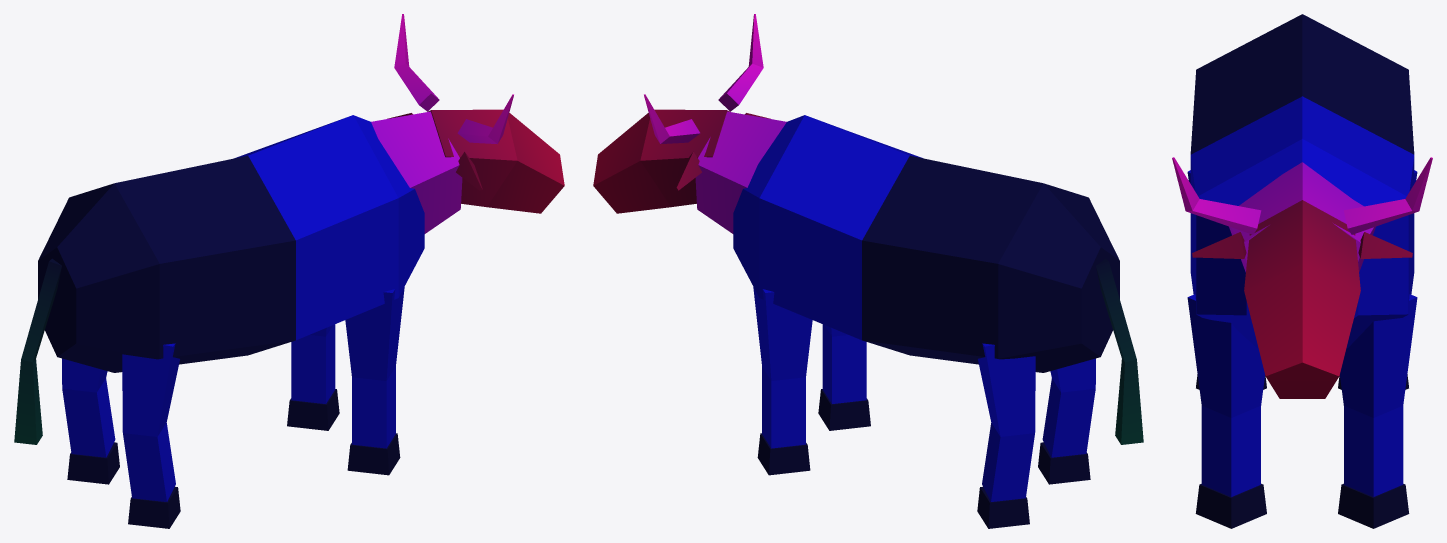
The model's file is ns-cattle-a.glb.
3 views of the same model, side by side, from view 1: azimuth 30°, elevation 25°; view 2: azimuth 150°, elevation 25°; view 3: azimuth 270°, elevation 25° (orthographic). The views are drawn at different scales.
Parts seen in each view (by area): view 1: Sculpted silhouette, Sculpted silhouette.001, Tapered form.009, Tapered form.006, Tapered form.002, Tapered form.008, Tapered form.004, Tapered form.014, Tapered form, Tapered form.005, Tapered form.007, Tapered form.001 (+3 smaller); view 2: Sculpted silhouette, Sculpted silhouette.001, Tapered form.009, Tapered form.004, Tapered form, Tapered form.008, Tapered form.006, Tapered form.014, Tapered form.002, Tapered form.007, Tapered form.005, Tapered form.003 (+3 smaller); view 3: Sculpted silhouette.001, Sculpted silhouette, Tapered form.009, Tapered form, Tapered form.002, Tapered form.008, Tapered form.001, Tapered form.003, Tapered form.010, Tapered form.012, Tapered form.011, Tapered form.013.
Boxes of the visible parts, box(x1,y1,x2,y2) form: Sculpted silhouette: box(38, 155, 295, 372); Sculpted silhouette.001: box(234, 115, 424, 340); Tapered form.009: box(427, 109, 564, 213); Tapered form.006: box(122, 343, 179, 501); Tapered form.002: box(345, 287, 404, 448); Tapered form.008: box(371, 111, 462, 233); Tapered form.004: box(62, 358, 115, 457); Tapered form.014: box(14, 258, 61, 444); Tapered form: box(291, 324, 335, 403); Tapered form.005: box(67, 442, 119, 484); Tapered form.007: box(128, 486, 180, 528); Tapered form.001: box(287, 389, 339, 430); Sculpted silhouette: box(862, 155, 1119, 372); Sculpted silhouette.001: box(733, 115, 922, 340); Tapered form.009: box(593, 109, 730, 213); Tapered form.004: box(978, 343, 1035, 501); Tapered form: box(753, 287, 812, 448); Tapered form.008: box(695, 111, 786, 233); Tapered form.006: box(1042, 358, 1095, 457); Tapered form.014: box(1096, 258, 1143, 444); Tapered form.002: box(822, 324, 866, 403); Tapered form.007: box(1038, 442, 1090, 484); Tapered form.005: box(977, 486, 1029, 528); Tapered form.003: box(818, 389, 870, 430); Sculpted silhouette.001: box(1190, 96, 1414, 348); Sculpted silhouette: box(1190, 14, 1414, 154); Tapered form.009: box(1244, 200, 1360, 398); Tapered form: box(1340, 294, 1417, 496); Tapered form.002: box(1187, 294, 1264, 496); Tapered form.008: box(1229, 162, 1375, 272); Tapered form.001: box(1338, 483, 1409, 528); Tapered form.003: box(1195, 483, 1266, 528); Tapered form.010: box(1172, 157, 1261, 234); Tapered form.012: box(1343, 157, 1432, 234); Tapered form.011: box(1192, 232, 1246, 258); Tapered form.013: box(1358, 232, 1412, 258).
Bounding box in the file's own units: 1.14 × 0.7206 × 0.4038.
